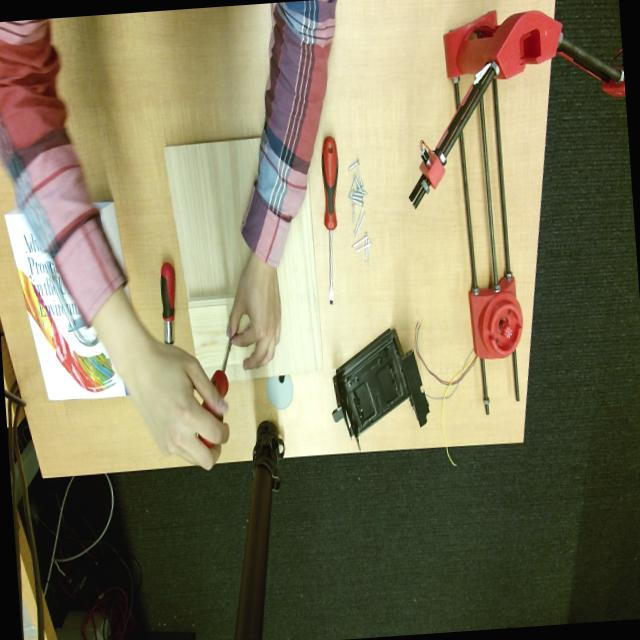screwdriver: (321, 137, 338, 303), (210, 337, 232, 396), (160, 262, 175, 344), (202, 402, 223, 420), (198, 435, 213, 448)
